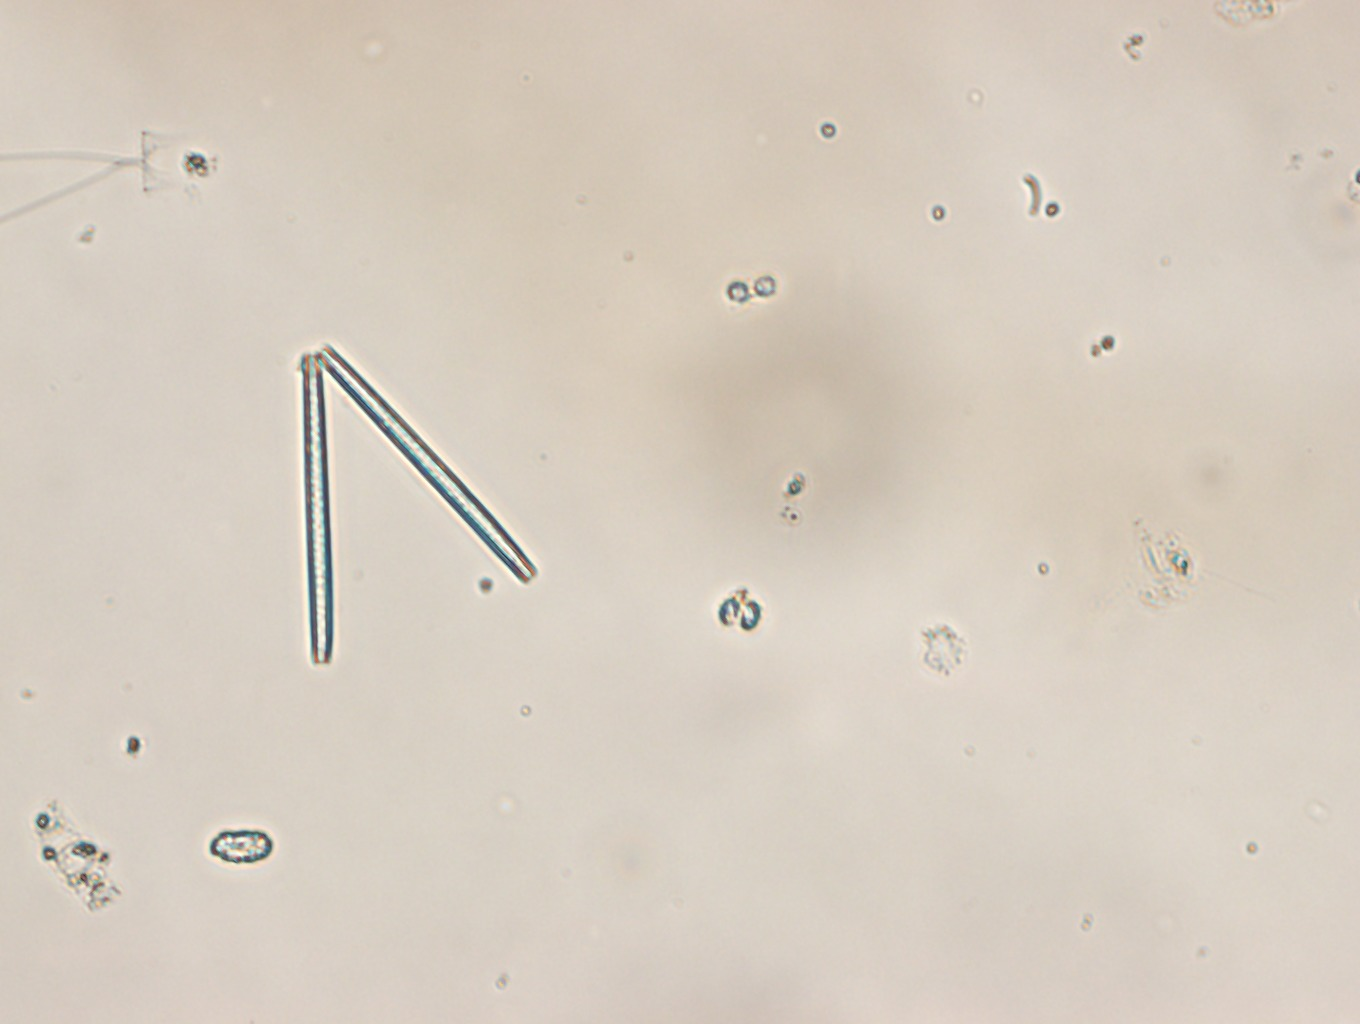thalassionema nitzschioides: (300, 338, 543, 665)
